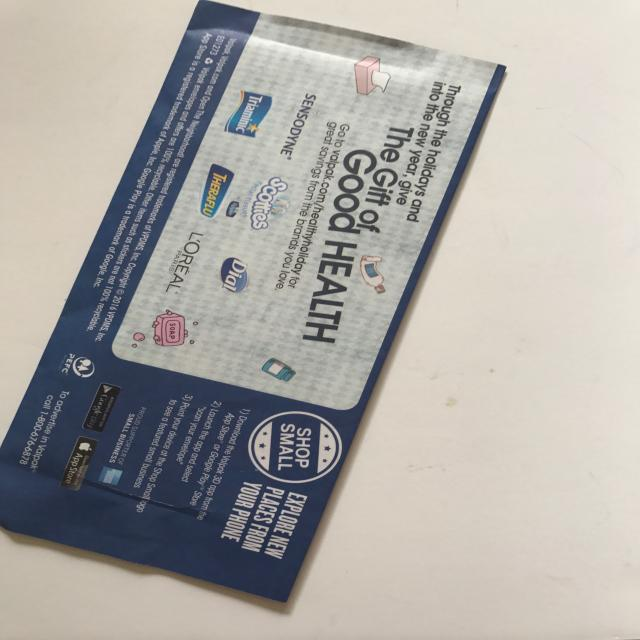paper: (0, 0, 483, 628)
